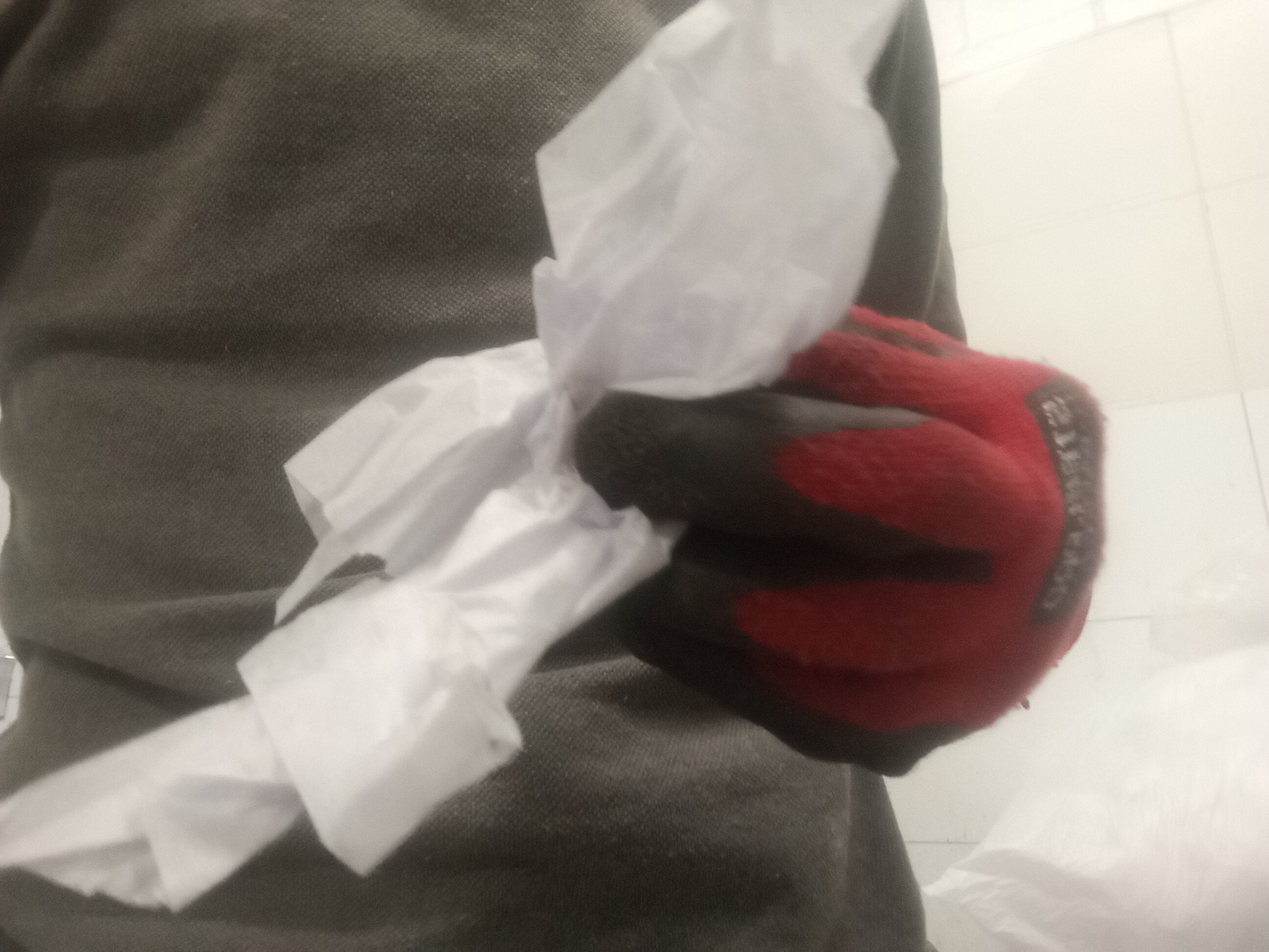Papel: (0, 0, 901, 910)
